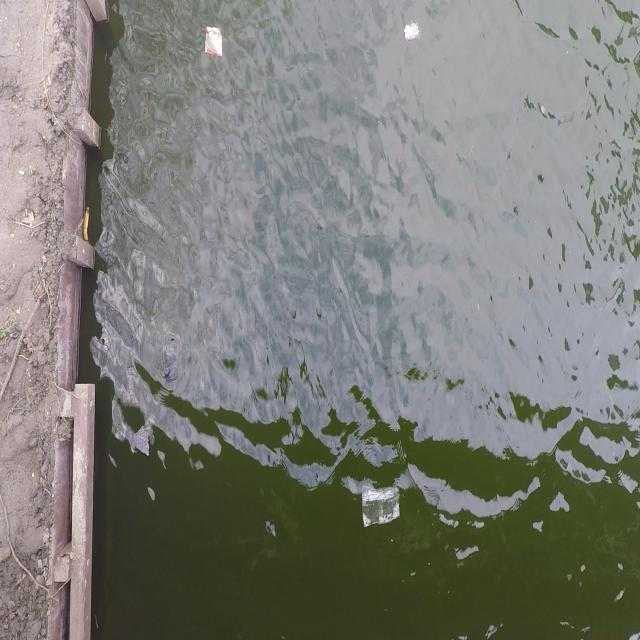Autre plastique: (194, 16, 230, 63)
Sac plastique: (358, 479, 404, 537)
